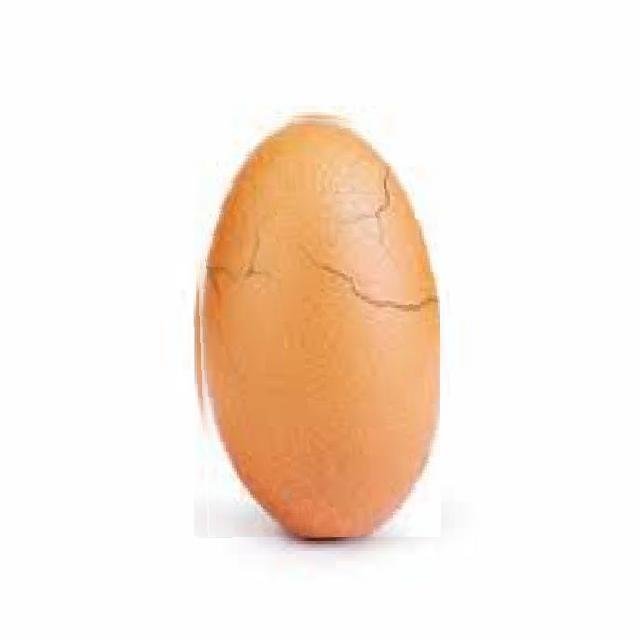biodegradable: (192, 113, 440, 537)
